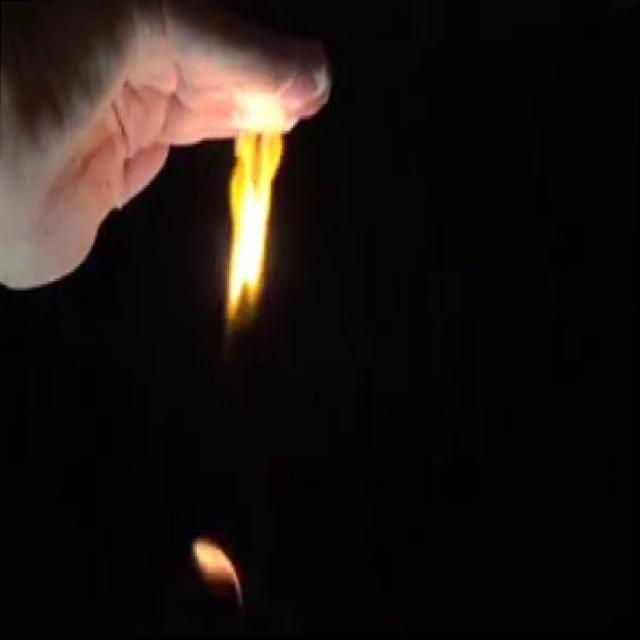Fire: (215, 65, 290, 457)
